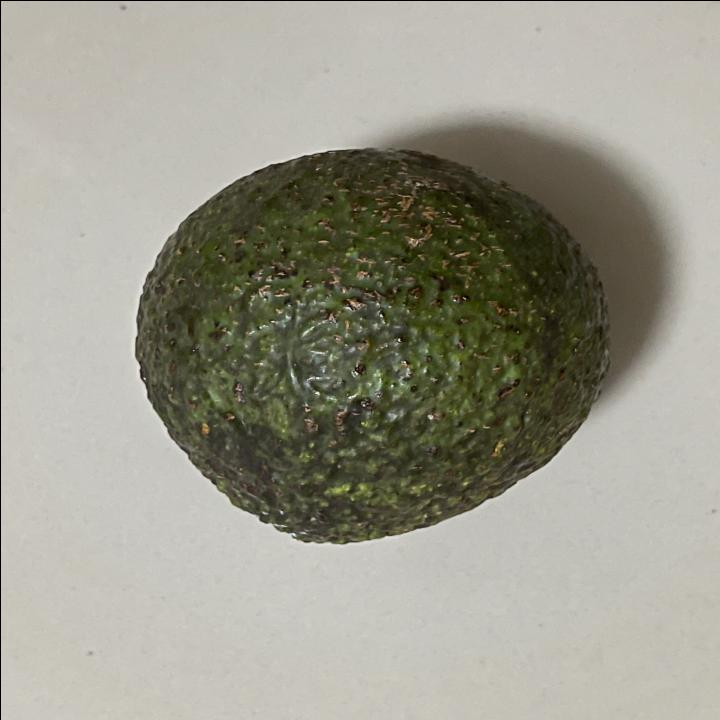Level1: (115, 135, 631, 554)
